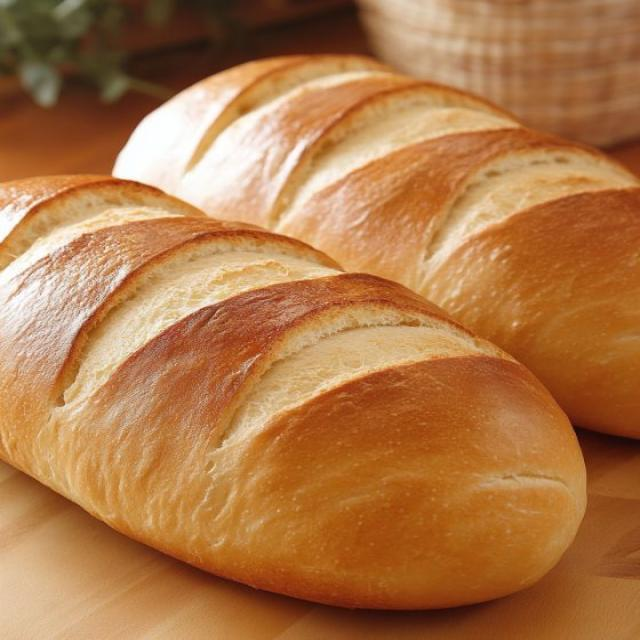bread: (0, 176, 585, 608), (115, 56, 639, 437)
